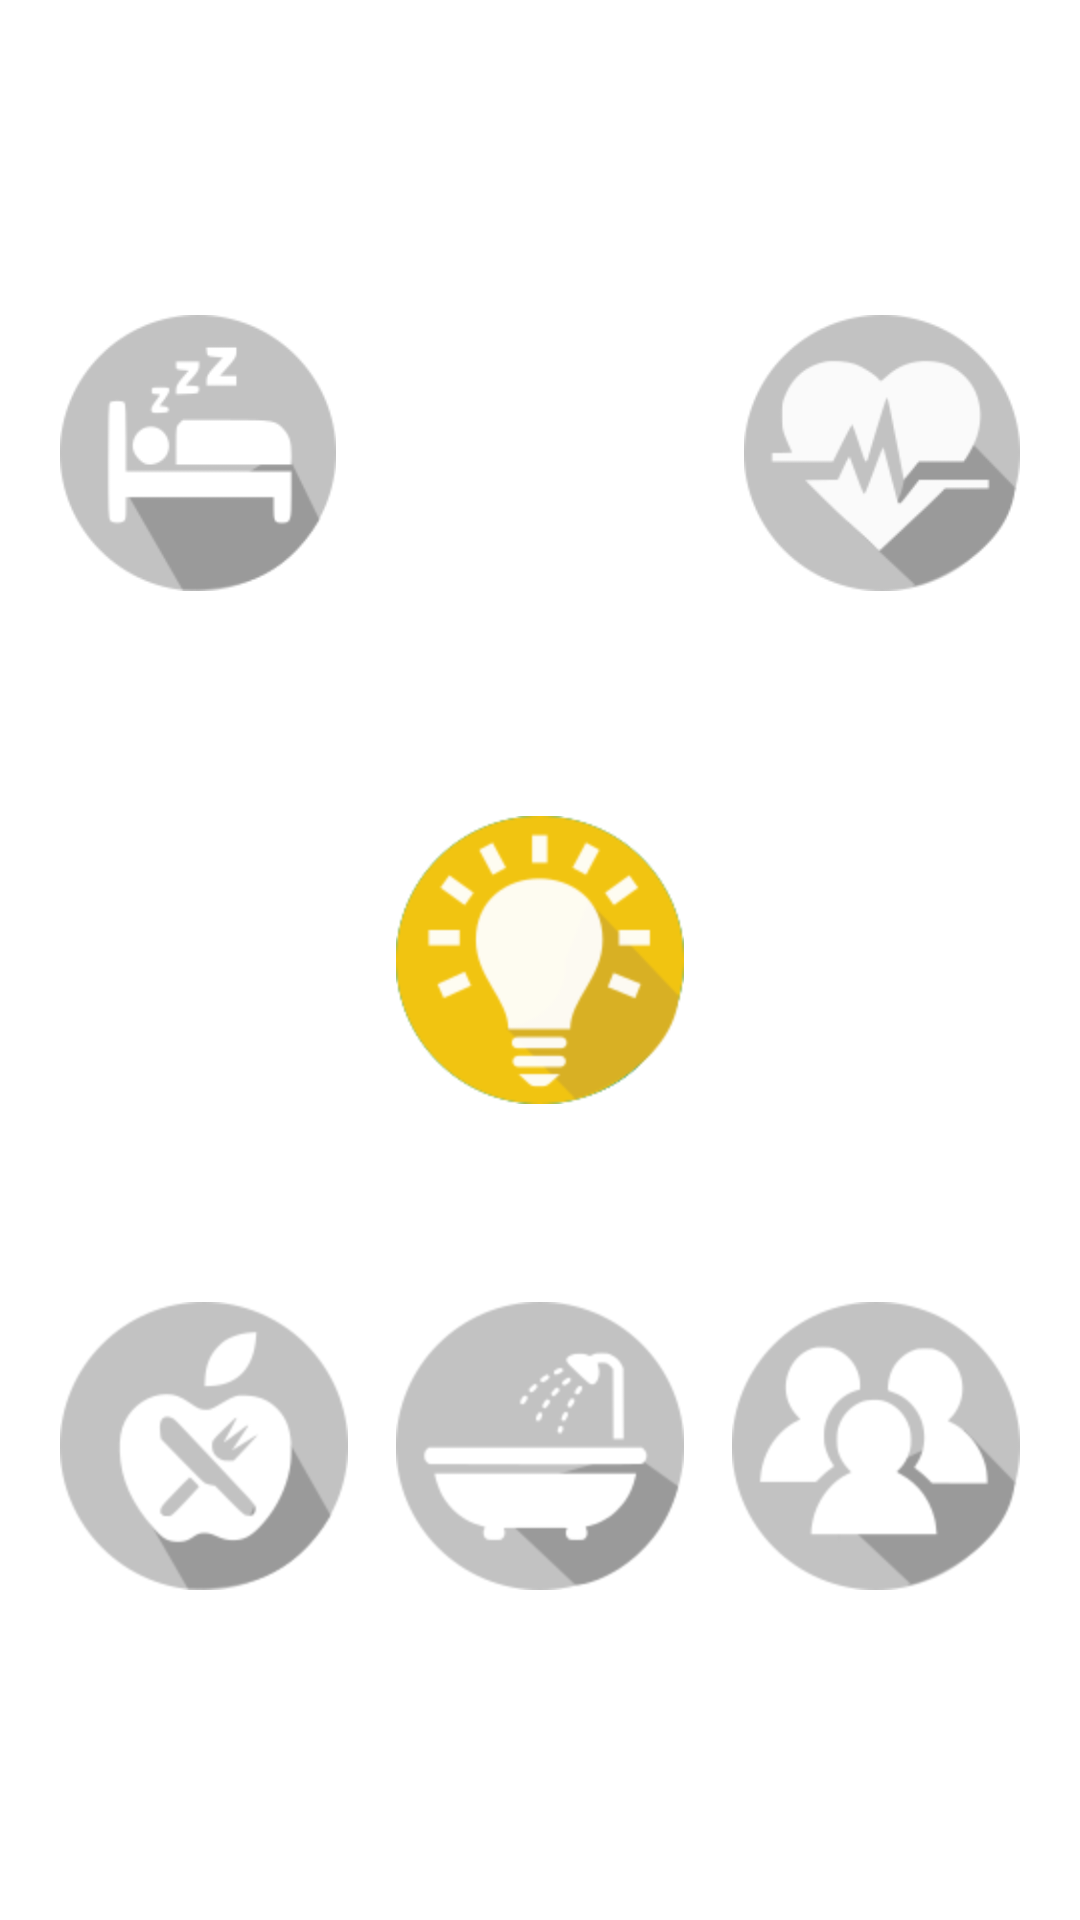

Screen size 1080px×1920px. Icon name, then its box in pixels as (x1, y1, x2, y2):
activegray: (744, 315, 1020, 591)
dietgray: (60, 1302, 348, 1590)
groupgray: (732, 1302, 1020, 1590)
lightcolor: (396, 816, 684, 1104)
showergray: (396, 1302, 684, 1590)
sleepgray: (60, 315, 336, 591)
